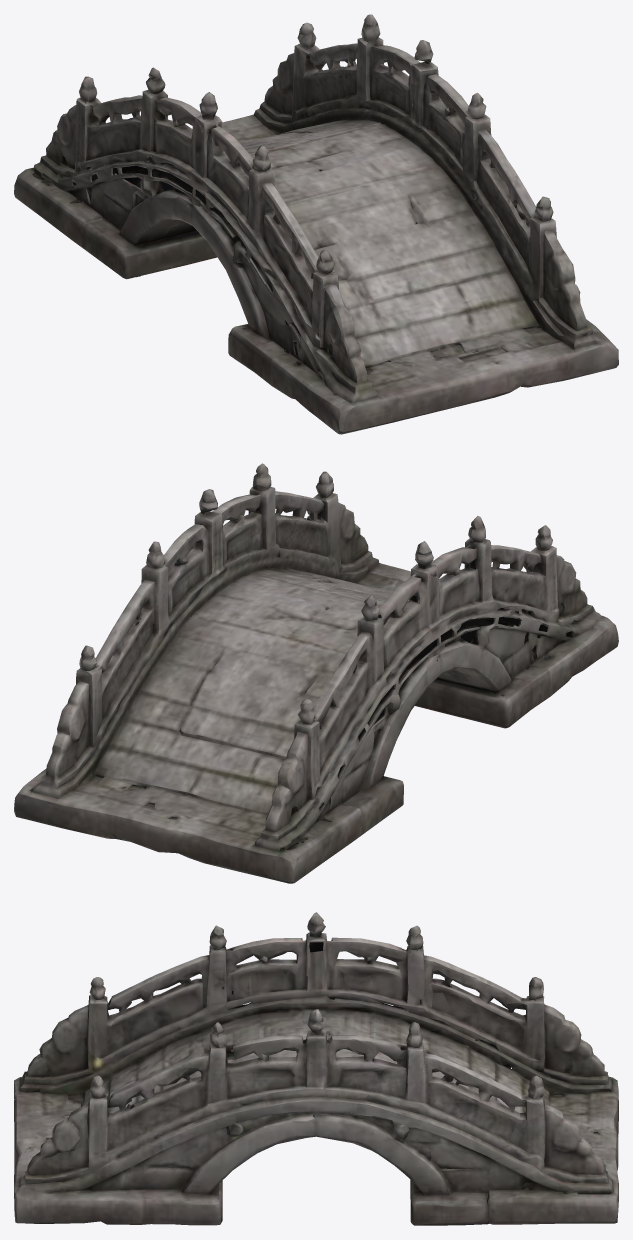
File: ARCH-010.glb
3 renders of one model, top to bottom at view 1: azimuth 30°, elevation 25°; view 2: azimuth 150°, elevation 25°; view 3: azimuth 270°, elevation 25°, orthographic. The views are drawn at different scales.
Visible parts, largest first — view 1: world; view 2: world; view 3: world.
Boxes of the visible parts, x1,y1,x2,y2 form: world: [14, 14, 618, 434]; world: [14, 463, 618, 883]; world: [14, 912, 618, 1225].
Size of the model in its own units: 0.4493 by 0.3423 by 0.9042.
Materials: 1 (1 with a texture image).
